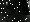person: (24, 1, 30, 16), (18, 4, 23, 15), (8, 4, 14, 13)
